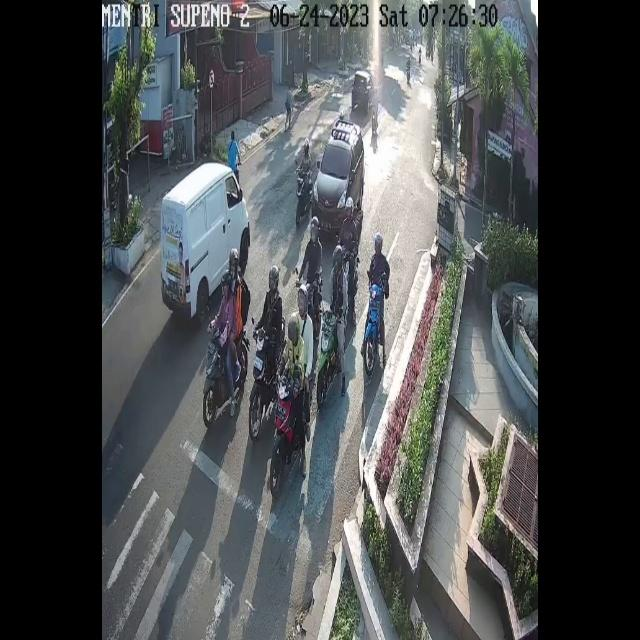bus: (270, 368, 312, 496), (202, 328, 250, 424), (250, 316, 284, 440), (317, 312, 345, 404), (365, 283, 382, 371), (294, 164, 312, 228), (347, 252, 361, 285), (370, 104, 380, 136)
motorcycle: (162, 162, 252, 317), (312, 116, 362, 243), (350, 69, 373, 112)
